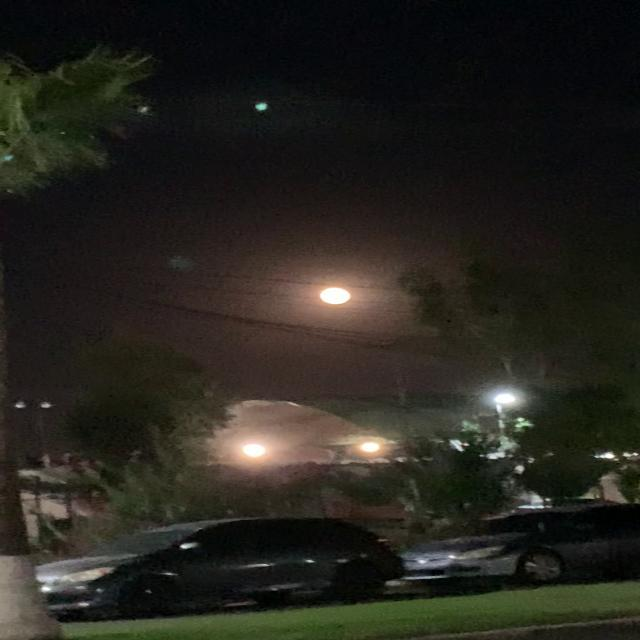moon: (314, 224, 371, 252)
